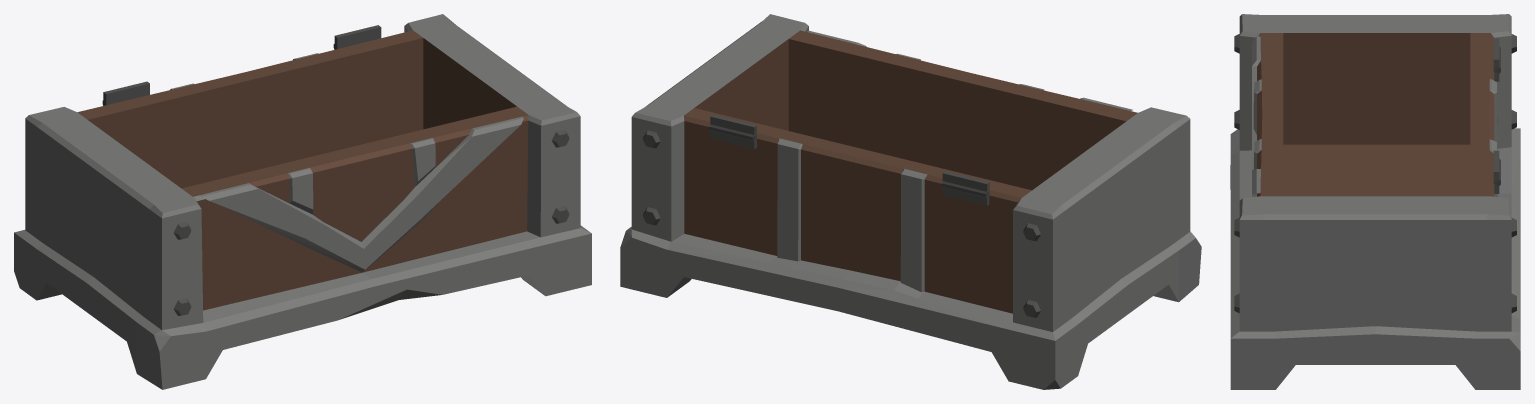
The model's file is SM_Prop_Chest_04.glb.
The picture shows the model from 3 angles, left to right: view 1: azimuth 30°, elevation 25°; view 2: azimuth 150°, elevation 25°; view 3: azimuth 270°, elevation 25°; orthographic projection.
Parts seen in each view (by area): view 1: SM_Prop_Chest_04; view 2: SM_Prop_Chest_04; view 3: SM_Prop_Chest_04.
Part boxes in pixels (<box>): SM_Prop_Chest_04: <box>14,14,591,389</box>; SM_Prop_Chest_04: <box>620,14,1201,389</box>; SM_Prop_Chest_04: <box>1230,14,1520,389</box>.
Size of the model in its own units: 0.01 by 0.00399 by 0.00584.
Materials: 1 (1 with a texture image).
